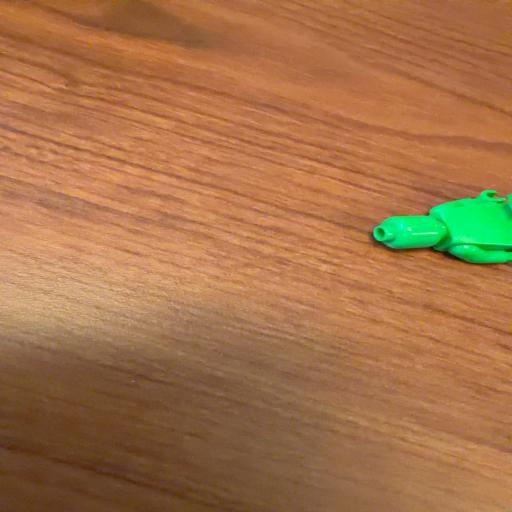UnoQ-minifig-detector: (371, 189, 512, 271)
